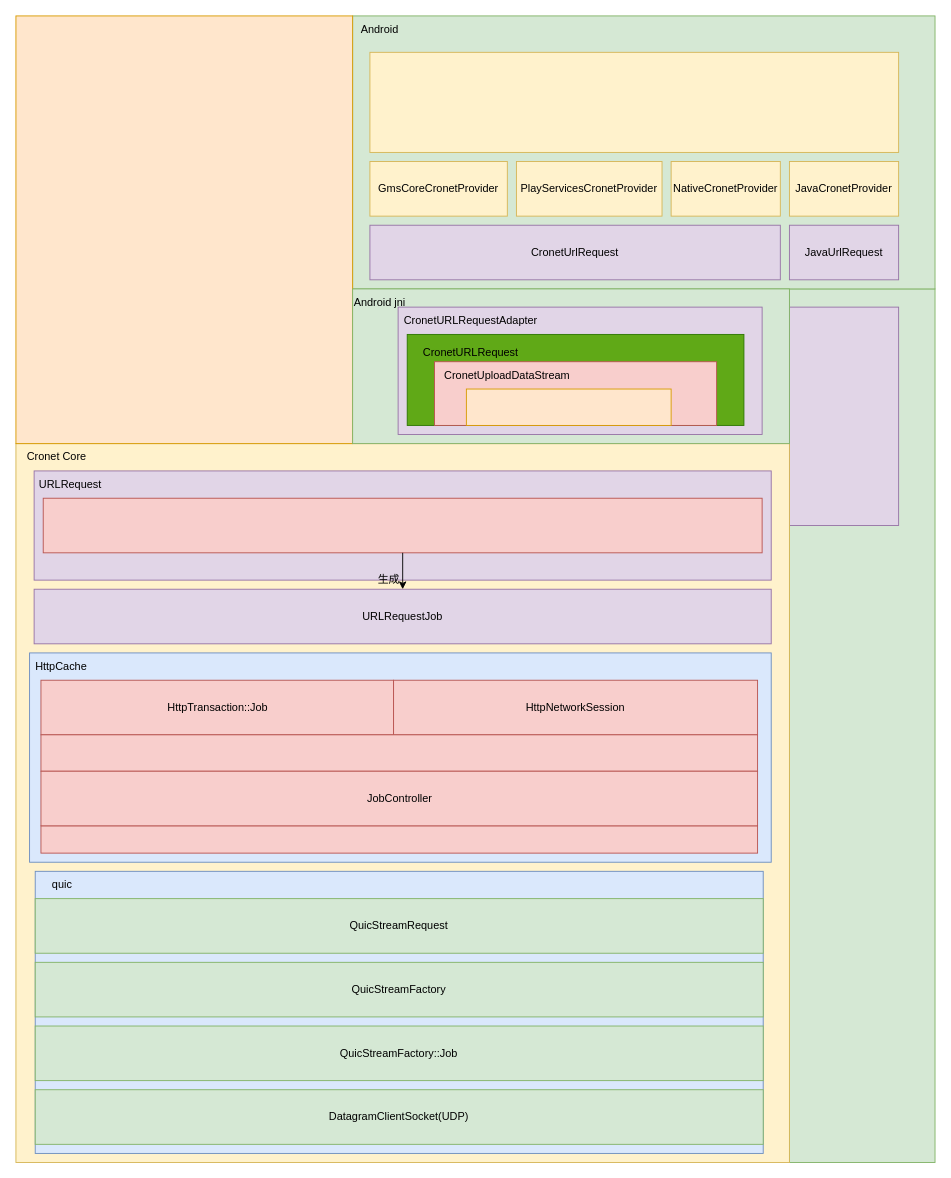
The diagram is 951 pixels wide and 1178 high, and some of its shapes have lost their labels. The shapes that lost their labels are listed below. From the top down, each one's centre as x and y in pixels, then its label:
At (x=634, y=101): "cronet-java-api".
At (x=184, y=229): "iOS".
At (x=568, y=406): "CronetUploadDataStreamAdapter".
At (x=844, y=416): "URLConnection".
At (x=402, y=525): "URLRequestJobFactory".
At (x=399, y=752): "HttpStreamRequest".
At (x=399, y=839): "HttpStreamFactory::Job".
